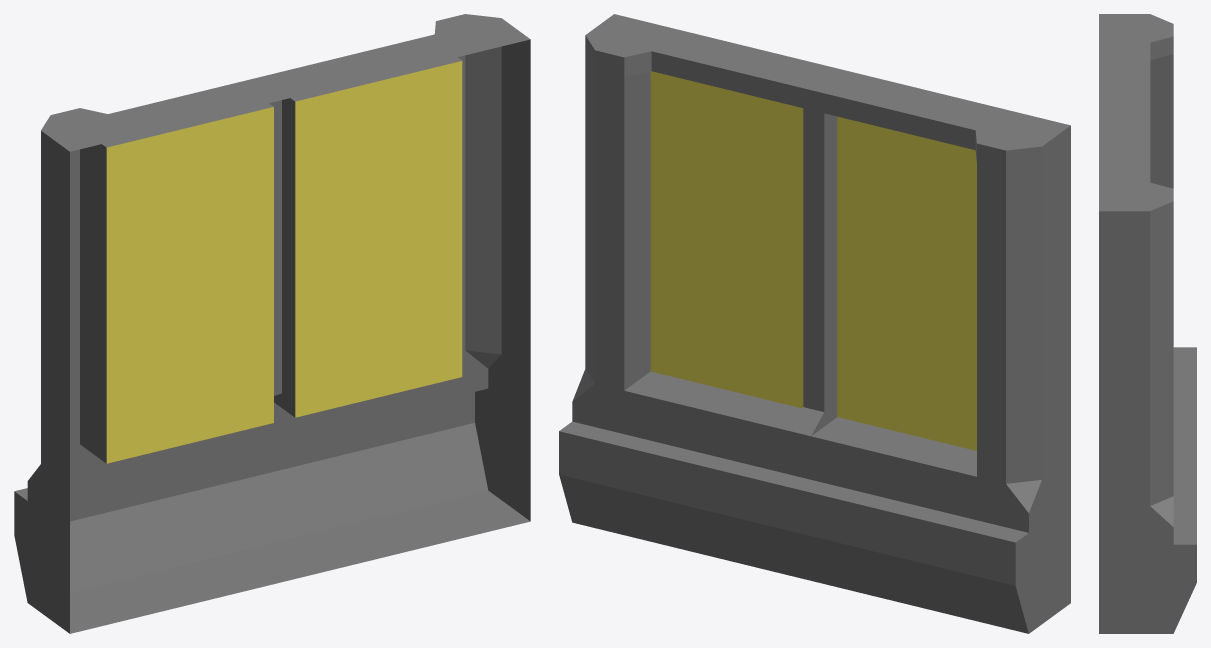
The model's file is TallWindow_Base.fbx.
The picture shows the model from 3 angles, left to right: view 1: azimuth 30°, elevation 25°; view 2: azimuth 150°, elevation 25°; view 3: azimuth 270°, elevation 25°; orthographic projection. The views are drawn at different scales.
Visible parts, largest first — view 1: TallWindow_Base; view 2: TallWindow_Base; view 3: TallWindow_Base.
Boxes of the visible parts, <box> form: TallWindow_Base: <box>14,14,530,633</box>; TallWindow_Base: <box>559,14,1070,633</box>; TallWindow_Base: <box>1099,14,1196,633</box>.
Bounding box in the file's own units: 1 × 1 × 0.2094.
